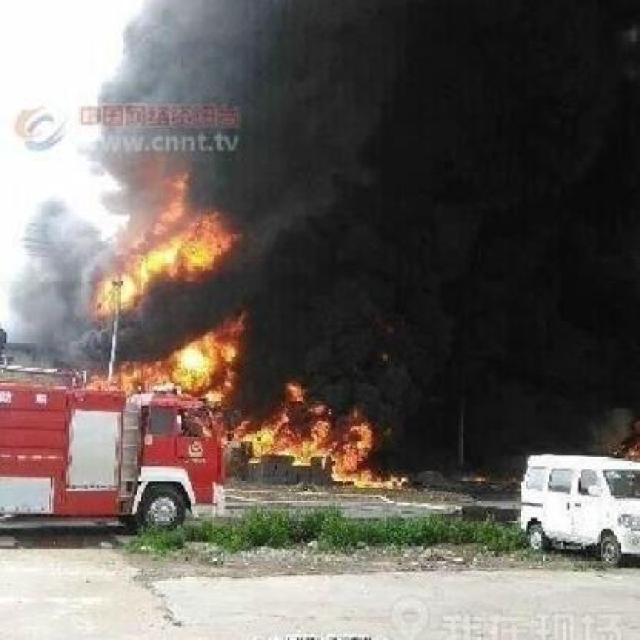Fire: (70, 150, 256, 418), (232, 372, 414, 502)
